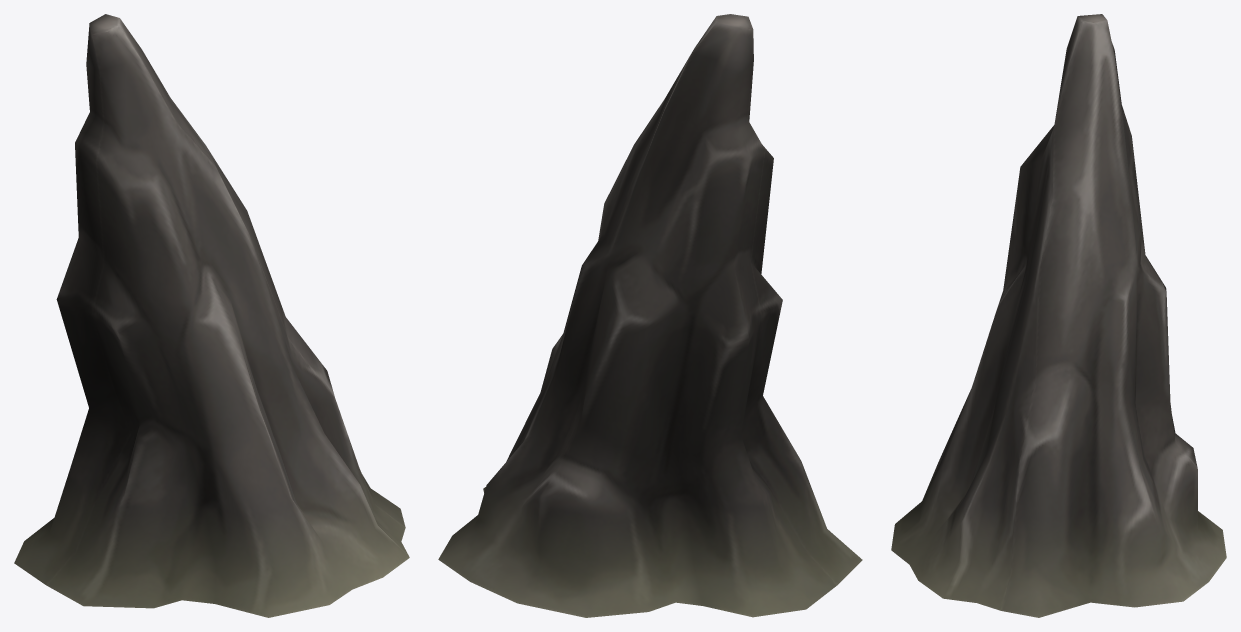
File: Rocks_Large_03.FBX
The picture shows the model from 3 angles, left to right: view 1: azimuth 30°, elevation 25°; view 2: azimuth 150°, elevation 25°; view 3: azimuth 270°, elevation 25°; orthographic projection. The views are drawn at different scales.
Visible parts, largest first — view 1: Rocks_Large_03; view 2: Rocks_Large_03; view 3: Rocks_Large_03.
Part boxes in pixels (box(x1,y1,x2,y2)): Rocks_Large_03: box(14, 14, 409, 617); Rocks_Large_03: box(438, 14, 862, 617); Rocks_Large_03: box(891, 14, 1226, 617).
Bounding box in the file's own units: 1282 × 1877 × 1182.
